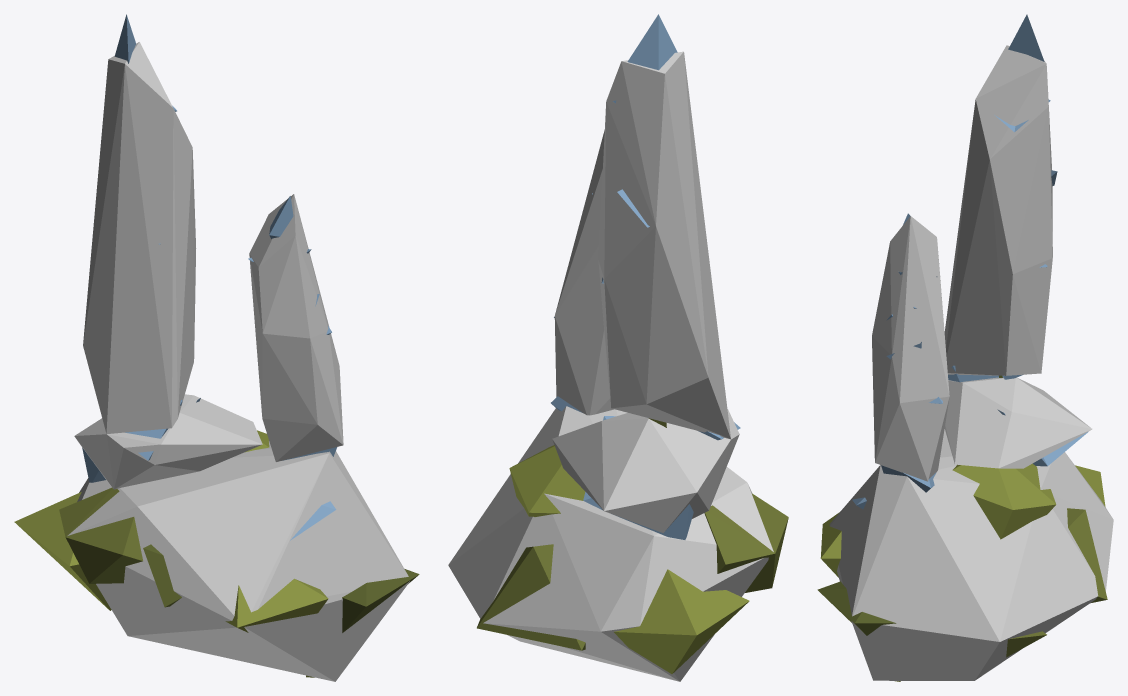
File: SM_Env_Flowers_08.fbx
The picture shows the model from 3 angles, left to right: view 1: azimuth 30°, elevation 25°; view 2: azimuth 150°, elevation 25°; view 3: azimuth 270°, elevation 25°; orthographic projection. The views are drawn at different scales.
Visible parts, largest first — view 1: SM_Env_Flowers_08_ConvexHulls, SM_Env_Flowers_08; view 2: SM_Env_Flowers_08_ConvexHulls, SM_Env_Flowers_08; view 3: SM_Env_Flowers_08_ConvexHulls, SM_Env_Flowers_08.
Part boxes in pixels (box(x1,y1,x2,y2)): SM_Env_Flowers_08_ConvexHulls: box(67, 42, 409, 681); SM_Env_Flowers_08: box(14, 14, 419, 677); SM_Env_Flowers_08_ConvexHulls: box(448, 51, 773, 681); SM_Env_Flowers_08: box(477, 14, 788, 673); SM_Env_Flowers_08_ConvexHulls: box(829, 45, 1113, 680); SM_Env_Flowers_08: box(817, 14, 1107, 681).
Size of the model in its own units: 52.88 by 49.51 by 112.
Materials: 2 (1 with a texture image).
